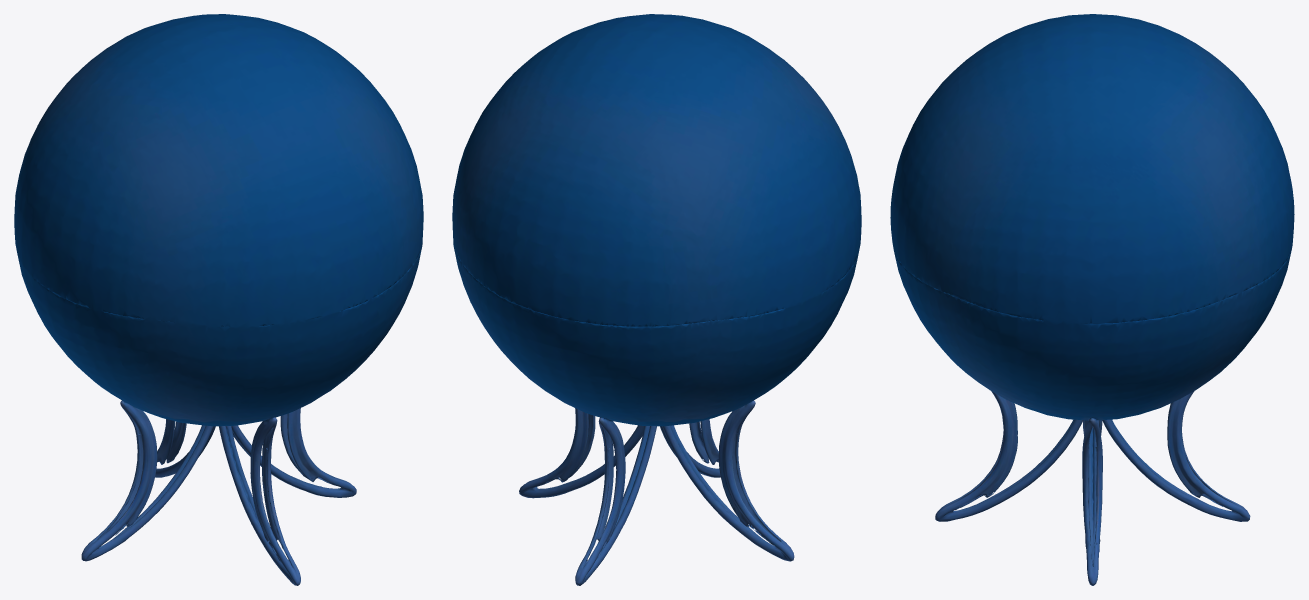
File: ball.glb
3 renders of one model, left to right at view 1: azimuth 30°, elevation 25°; view 2: azimuth 150°, elevation 25°; view 3: azimuth 270°, elevation 25°, orthographic.
Parts seen in each view (by area): view 1: tripo_node_04bf623b-b690-4655-8bdc-cee7a7397a2c; view 2: tripo_node_04bf623b-b690-4655-8bdc-cee7a7397a2c; view 3: tripo_node_04bf623b-b690-4655-8bdc-cee7a7397a2c.
Part boxes in pixels (x1,y1,x2,y2): tripo_node_04bf623b-b690-4655-8bdc-cee7a7397a2c: (14,14,423,585); tripo_node_04bf623b-b690-4655-8bdc-cee7a7397a2c: (452,14,861,585); tripo_node_04bf623b-b690-4655-8bdc-cee7a7397a2c: (890,14,1294,585).
Size of the model in its own units: 0.7317 by 0.9792 by 0.7322.
Materials: 1 (1 with a texture image).
